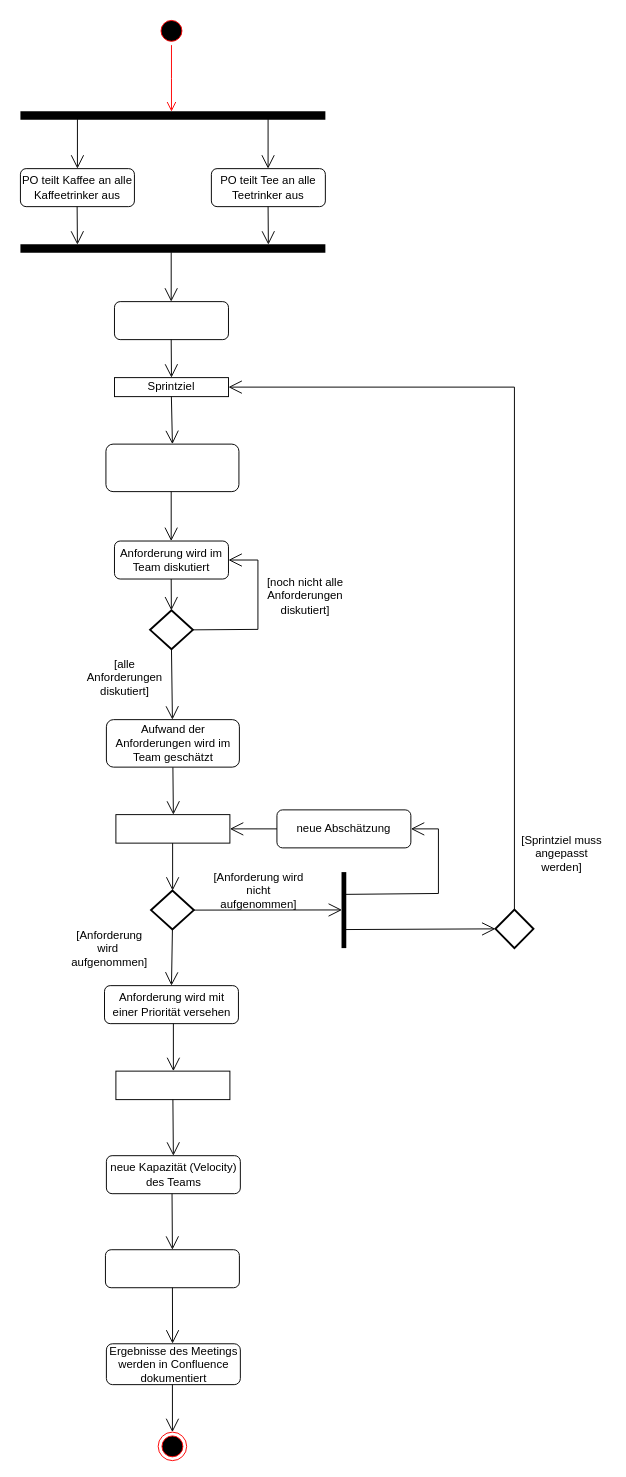
Image size: 626x1477. Some labels were removed from this diagram. The shapes that lost their labels are listed below. From the top down, each one's centre as x and y in pixels, then its label:
At point 171,320: "PO stellt das Ziel des Sprints vor".
At point 172,467: "PO gibt Überblick über alle Anforderungen des Sprints".
At point 172,828: "Product Backlog".
At point 172,1085: "Selektierte Product Backlog".
At point 171,1268: "Forecast".
